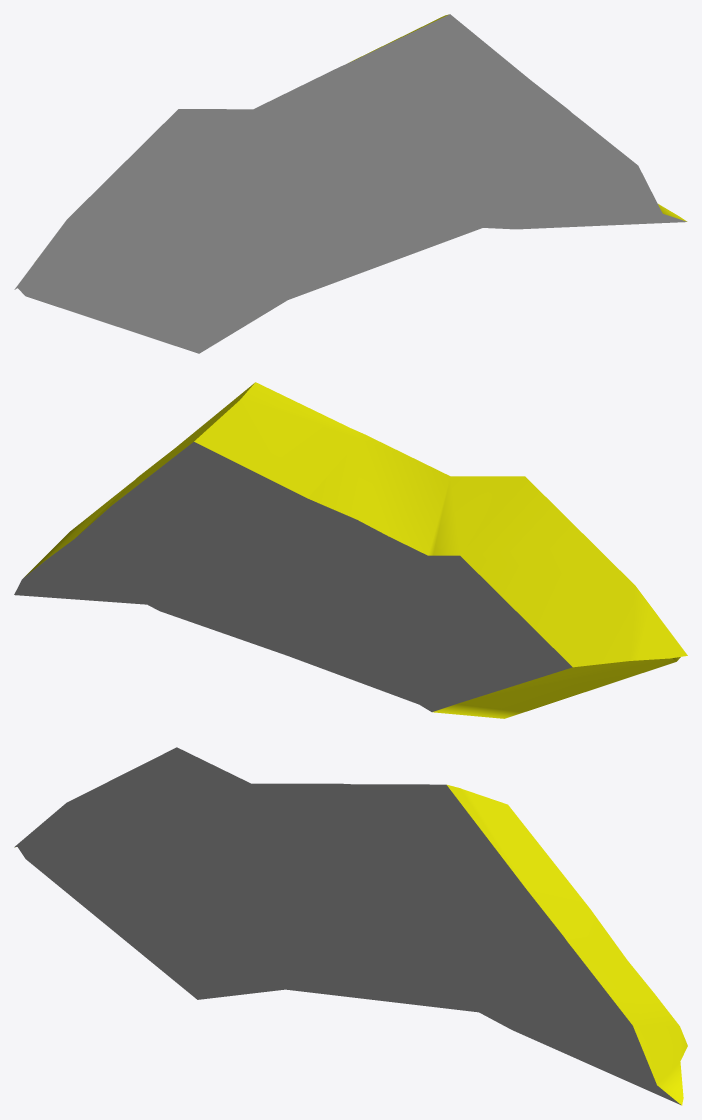
The model's file is Wall_Shard12.fbx.
3 renders of one model, top to bottom at view 1: azimuth 30°, elevation 25°; view 2: azimuth 150°, elevation 25°; view 3: azimuth 330°, elevation 25°, orthographic.
Visible parts, largest first — view 1: Wall_Shard12; view 2: Wall_Shard12; view 3: Wall_Shard12.
Boxes of the visible parts, x1,y1,x2,y2 form: Wall_Shard12: (14, 14, 687, 353); Wall_Shard12: (14, 382, 687, 718); Wall_Shard12: (14, 747, 687, 1105).
Size of the model in its own units: 216 by 85.48 by 20.
